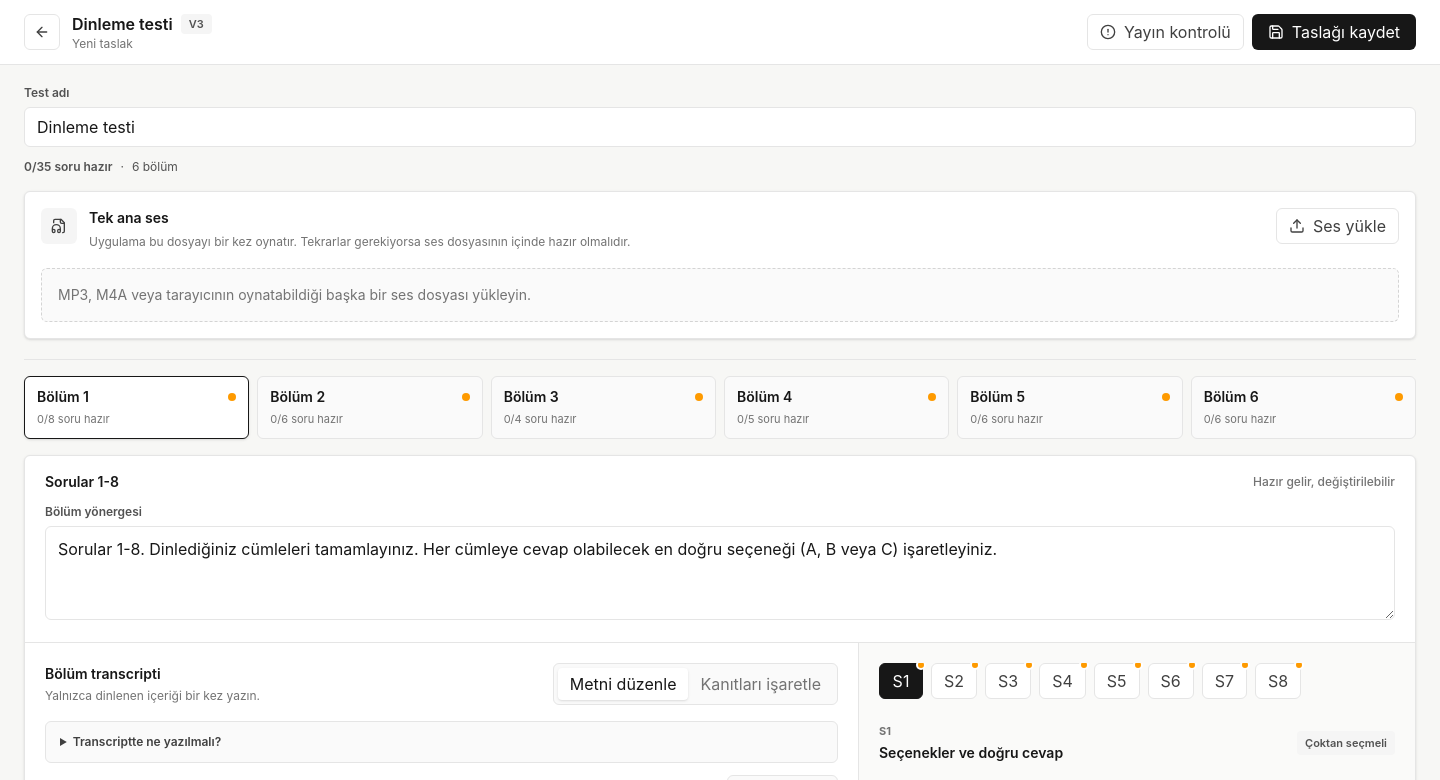
Test: ListeningExamEditorV3 › uses map letters without editable option text in part four
The width and height of the screenshot is (1440, 780).
Click the button "Bölüm 4 0/5 soru hazır". click: (837, 407)
box: x1=724 y1=376 x2=949 y2=438
(page scrolled)
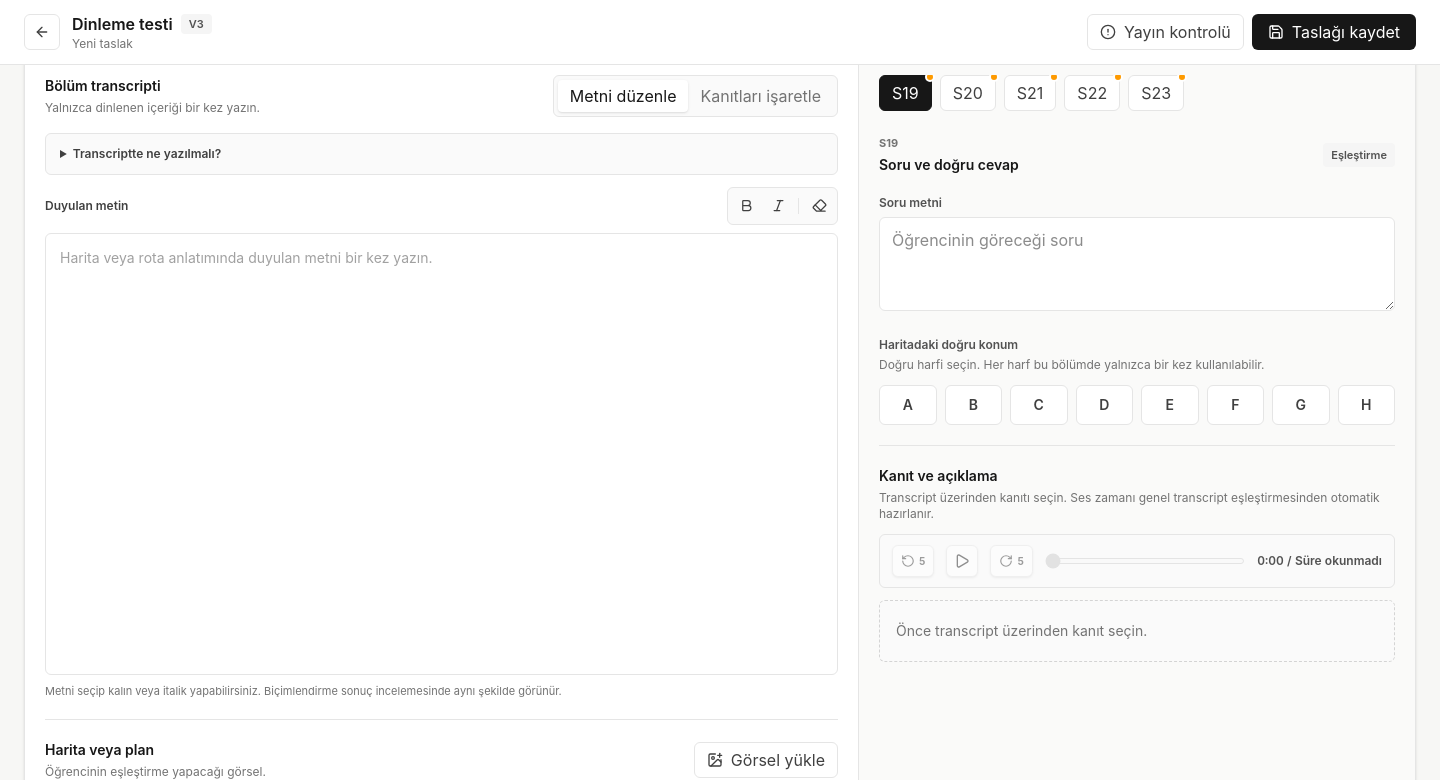
Now the text "Haritadaki doğru konum" is shown, box x1=879 y1=337 x2=1018 y2=353
Click the radio button named "A harfini doğru konum yap". click: (908, 405)
box: x1=879 y1=385 x2=936 y2=425
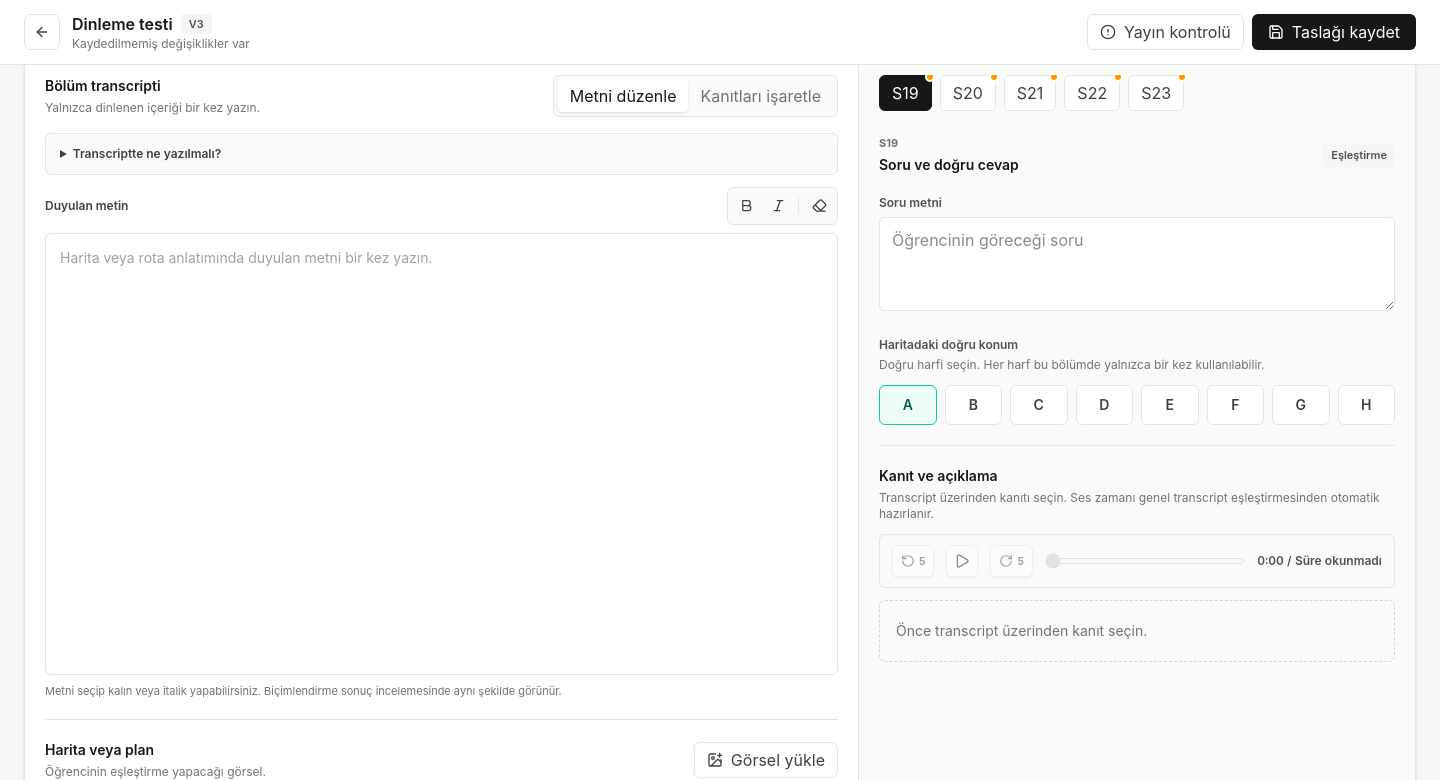
Click the button "S20". click: (968, 92)
box: x1=940 y1=74 x2=996 y2=110
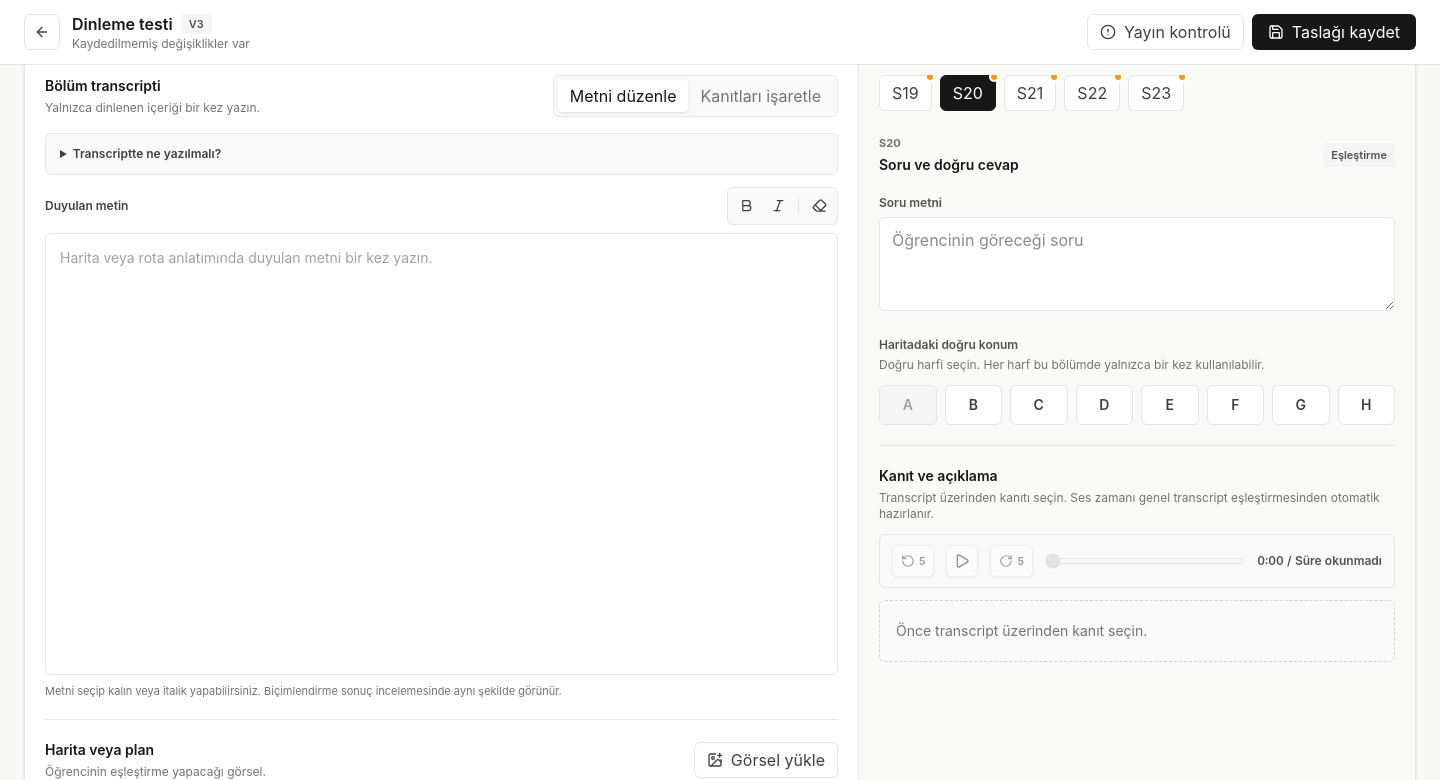
Now the radio button named "A harfini doğru konum yap" is disabled, box x1=879 y1=385 x2=936 y2=425
